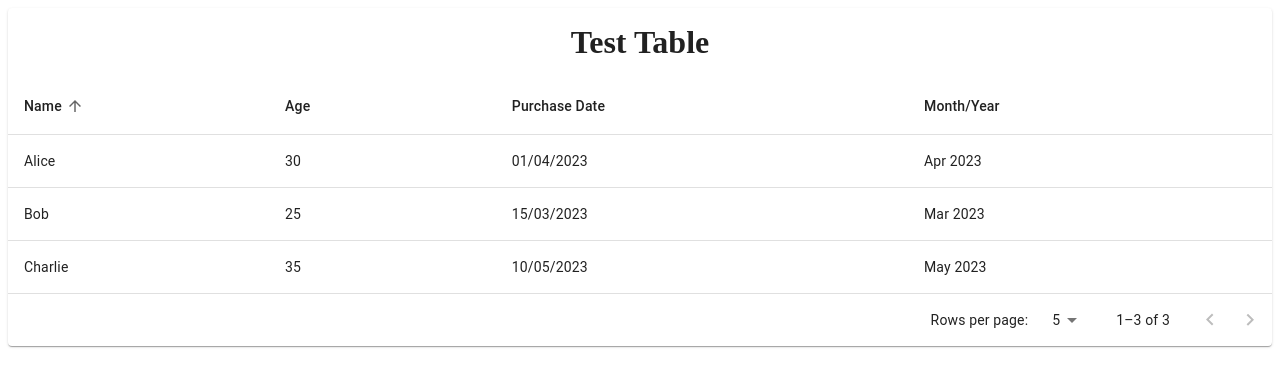
Test: EnhancedTable › sorts by age column ascending and descending
The width and height of the screenshot is (1280, 365).
Click the button "Age" at (298, 106), box [285, 98, 310, 114]
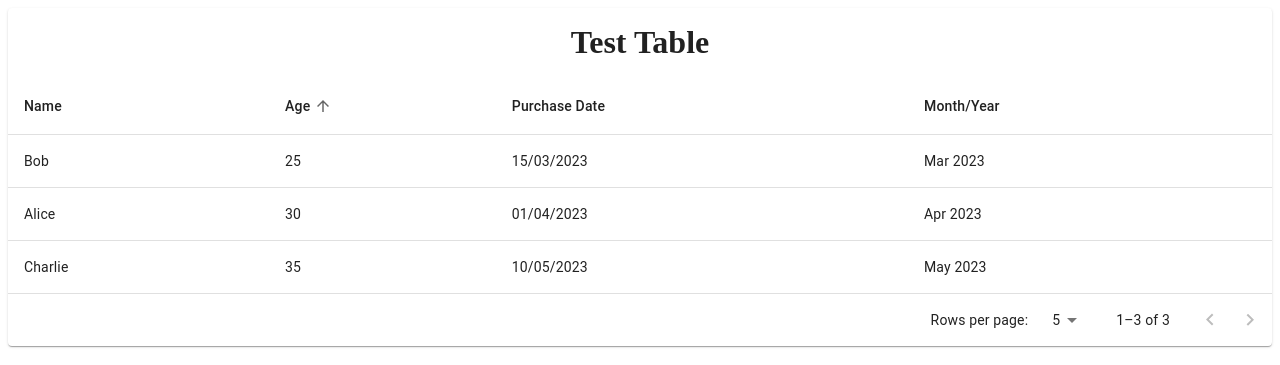
Now the row "Bob 25 15/03/2023 Mar 2023" is shown, box [8, 135, 1272, 188]
Click the button "Age" at (311, 106), box [285, 94, 336, 118]
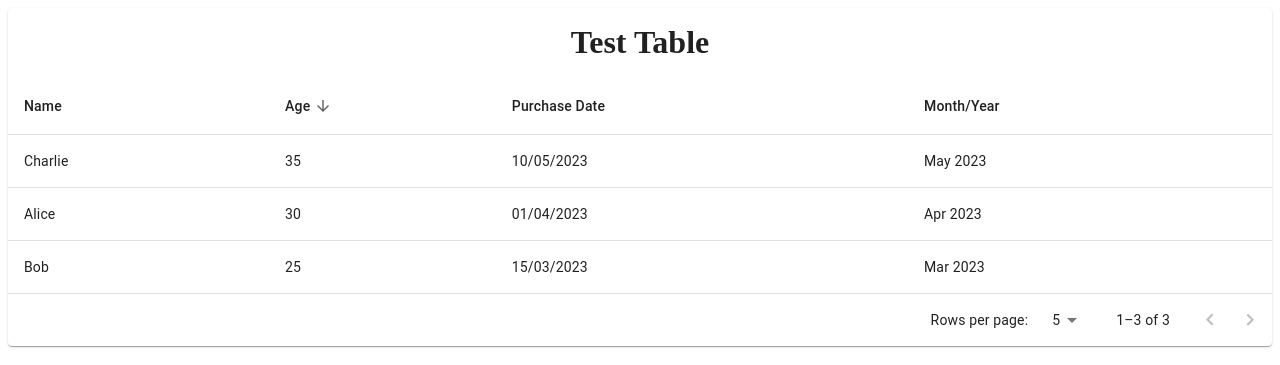
Now the row "Charlie 35 10/05/2023 May 2023" is shown, box [8, 135, 1272, 188]
